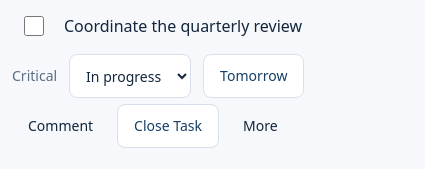
Test: TaskListRow — List presentation of the shared controls (WP-POSTUX-03) › labels the expanded More disclosure Less without changing its accessible name
Check: the button with test id "task-close-trigger" is enabled, box [117,104,219,148]
Click the button with test id "task-list-row-more". click: (260, 126)
box: [227,104,294,148]
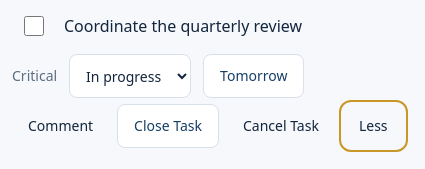
Check: the button with test id "task-list-row-more" is expanded, box [343,104,404,148]
Check: the button with test id "task-list-row-more" reads "Less", box [343,104,404,148]
